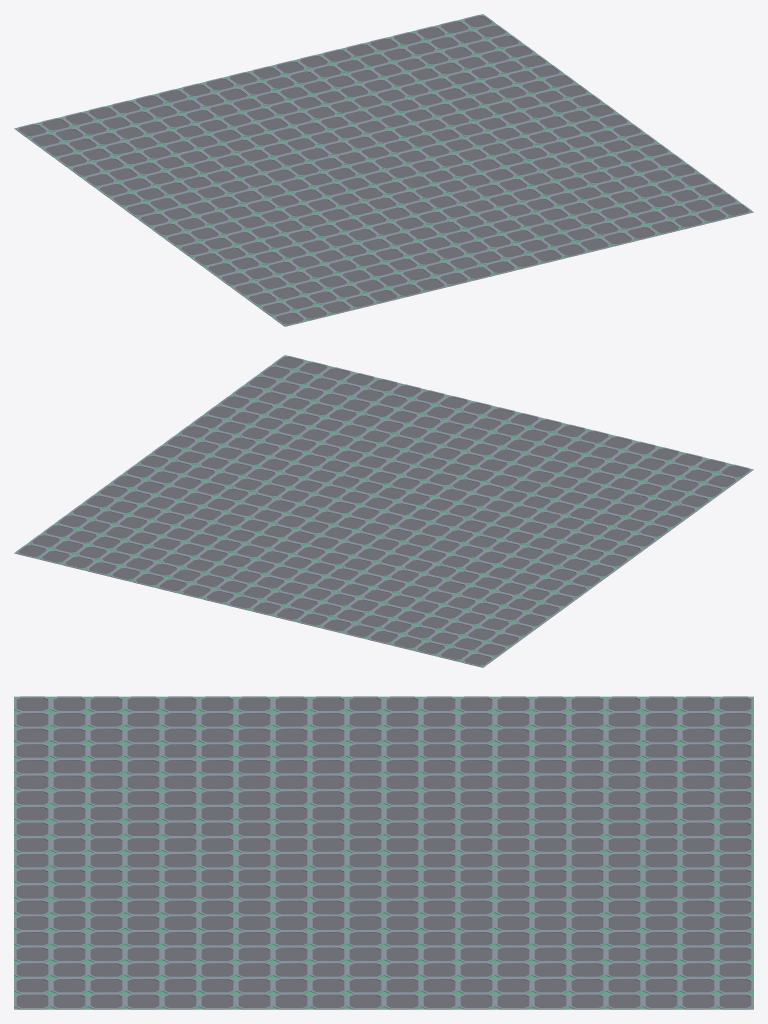
The model's file is floor.glb.
3 renders of one model, top to bottom at view 1: azimuth 30°, elevation 25°; view 2: azimuth 150°, elevation 25°; view 3: azimuth 270°, elevation 25°, orthographic. The views are drawn at different scales.
Parts seen in each view (by area): view 1: floor01, floor01Tiles; view 2: floor01, floor01Tiles; view 3: floor01, floor01Tiles.
Part boxes in pixels (x1,y1,x2,y2): floor01: (19,16,753,326); floor01Tiles: (14,14,753,326); floor01: (14,357,748,667); floor01Tiles: (14,355,753,667); floor01: (14,698,753,1009); floor01Tiles: (14,696,753,1009).
Size of the model in its own units: 40 by 0.033 by 40.
